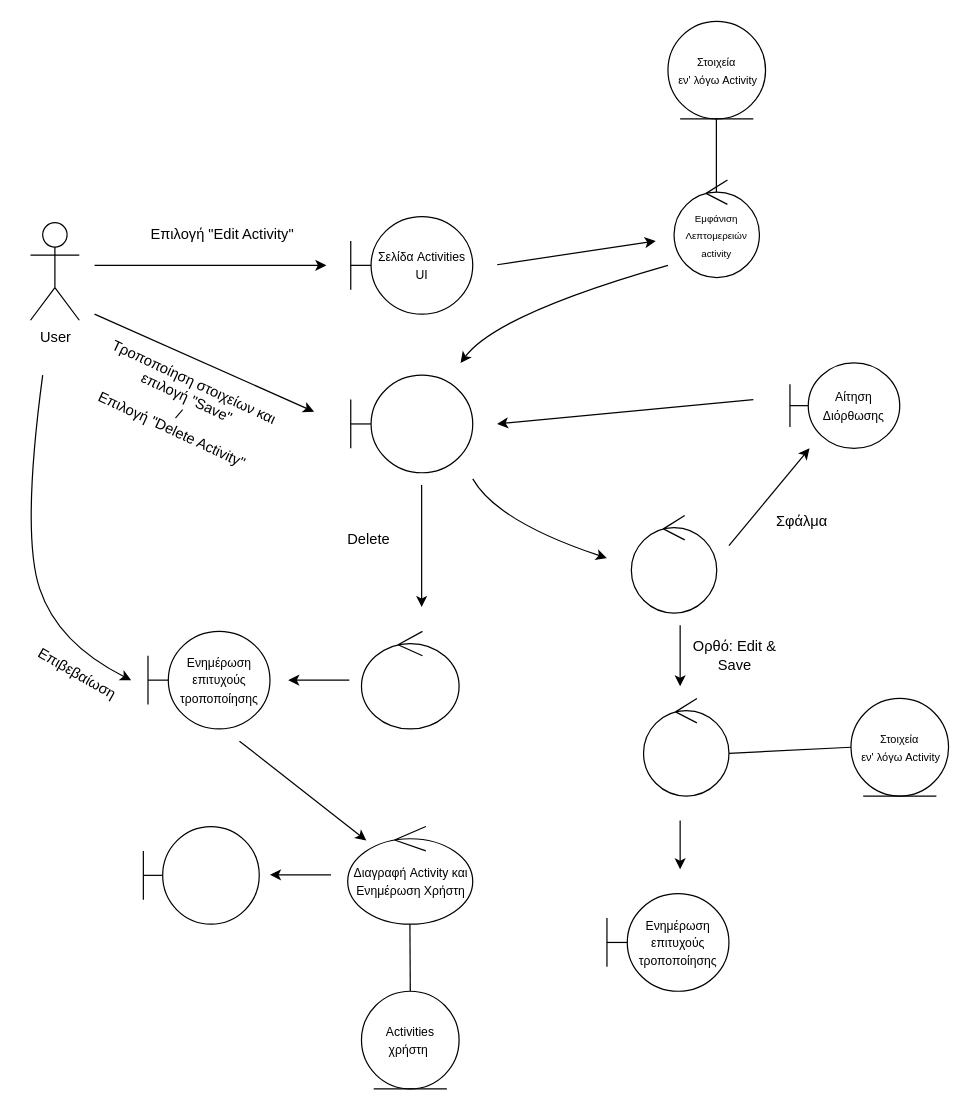
This 970x1110 diagram has some shape labels left out. The shapes that lost their labels are listed below. From the top down, each one's box as (x1, y1, x2, y2) in pixels, then its label:
(350, 374, 473, 473): UI Λίστας Τροποποίησης στοιχείων
(630, 514, 717, 613): Έλεγχος σφάλματος
(360, 630, 459, 729): Απαίτηση επιβεβαίωσης
(642, 697, 729, 796): Ενημέρωση Activities Χρήστη
(142, 825, 259, 924): Ενημέρωση επιτυχούς διαγραφής
